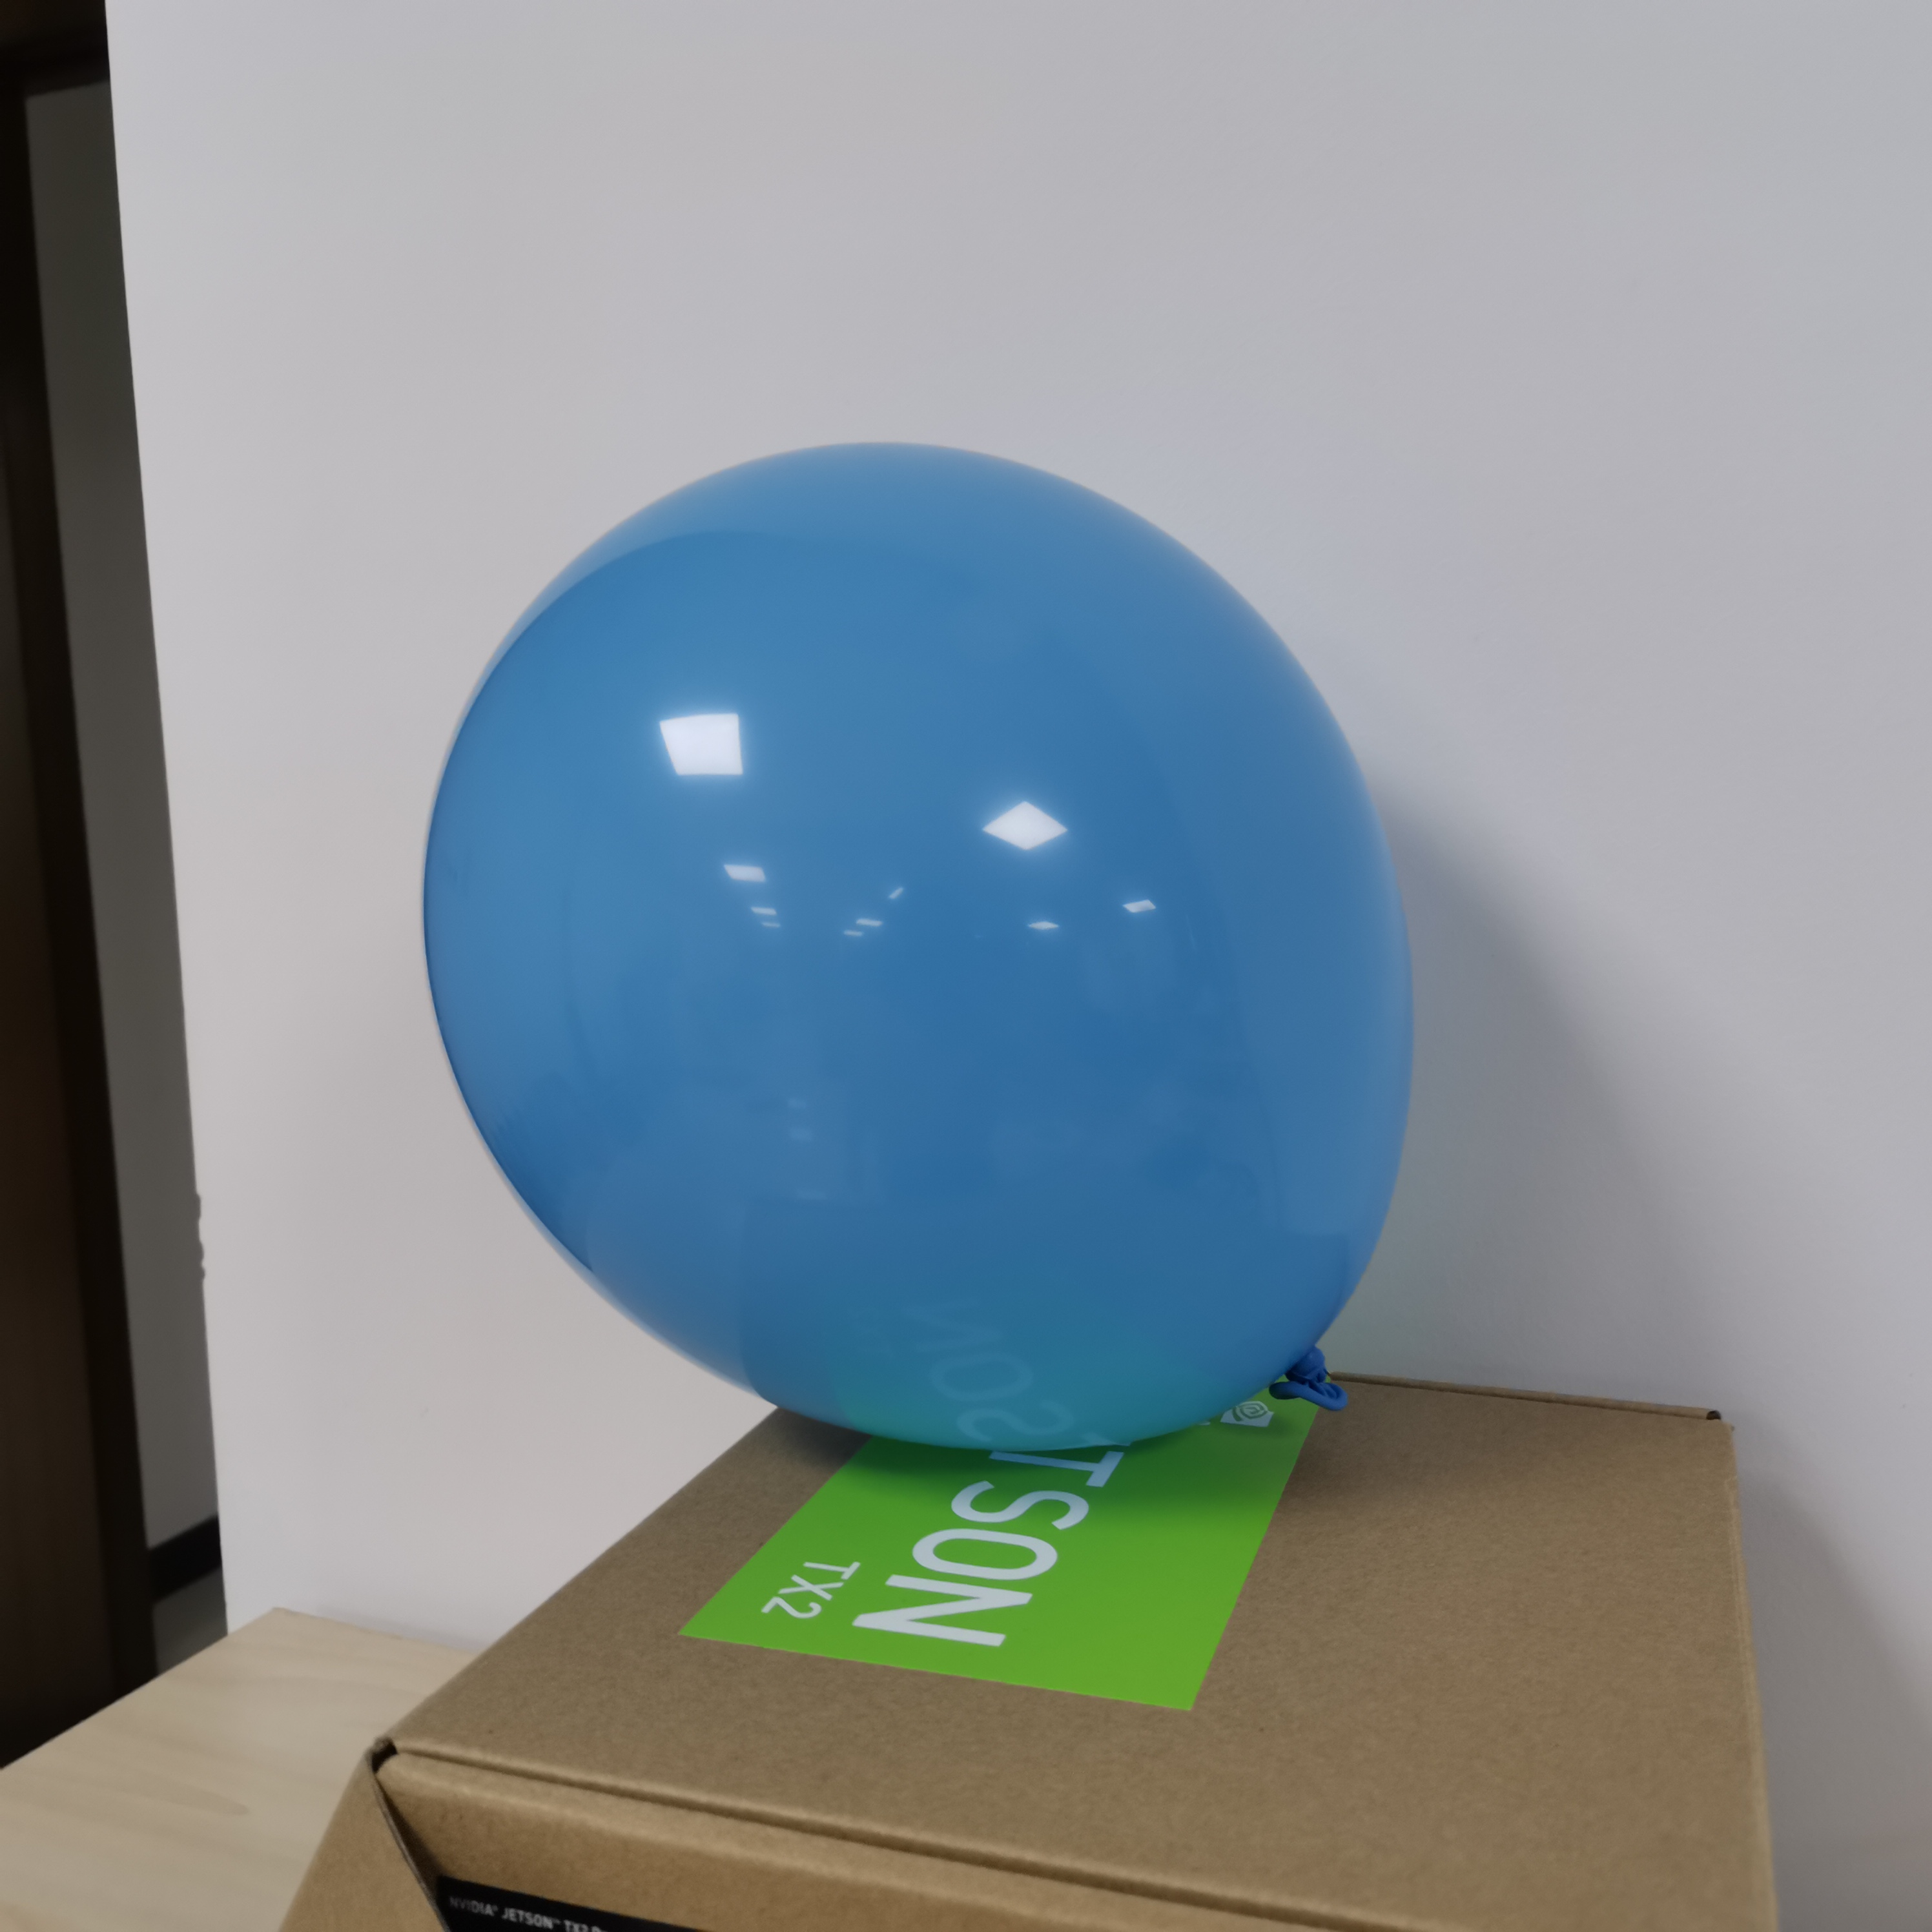balloon: (419, 441, 1415, 1451)
